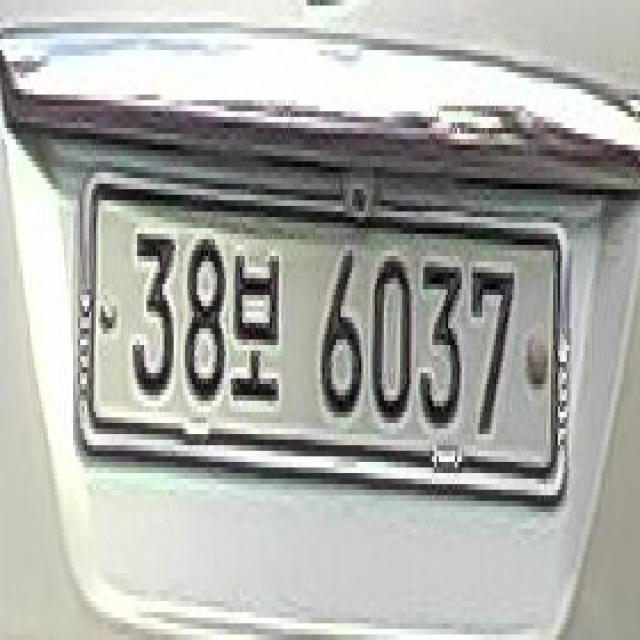0: (368, 250, 411, 423)
3: (418, 256, 464, 429), (133, 228, 176, 401)
6: (318, 245, 366, 423)
7: (468, 262, 519, 445)
8: (185, 228, 229, 406)
bo: (229, 234, 281, 406)
license_plate: (82, 167, 567, 484)
